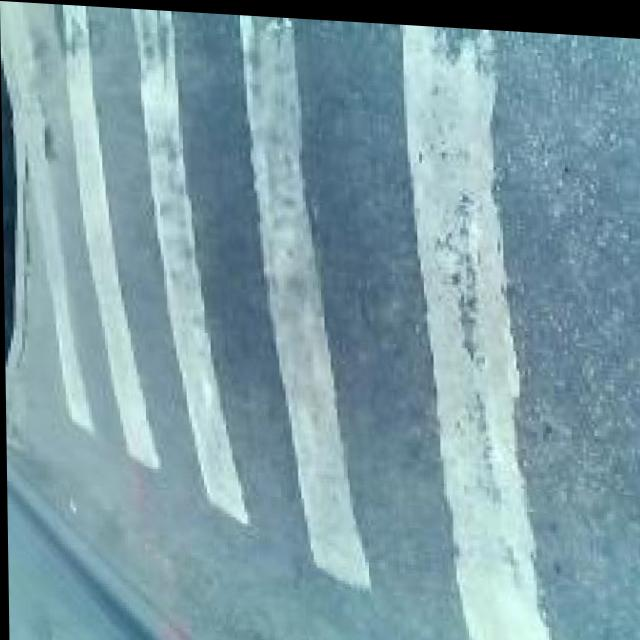zebra: (55, 53, 594, 460)
